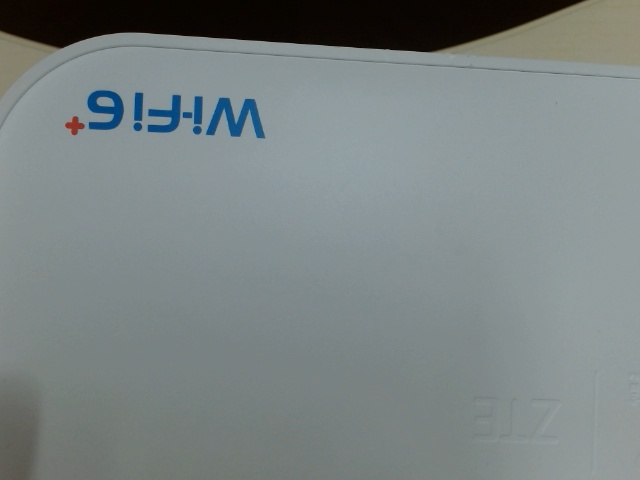AJ_ZTEWIFI6Plus: (45, 80, 273, 150)
